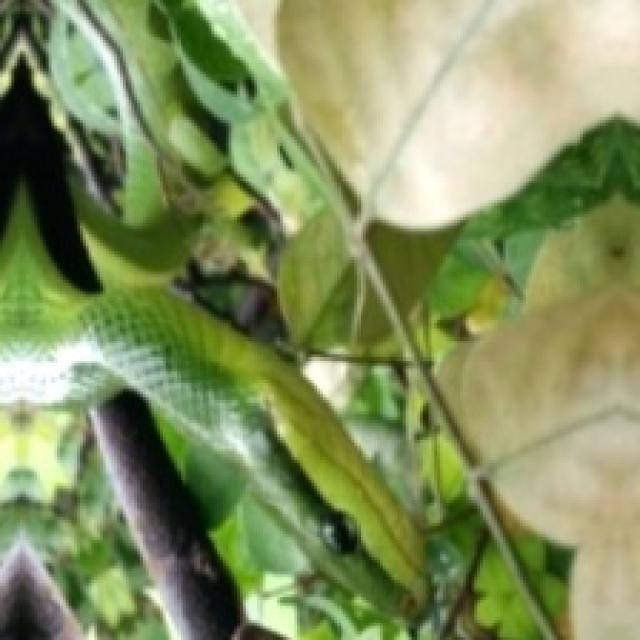red-tailed green ratsnake: (0, 5, 429, 636)
